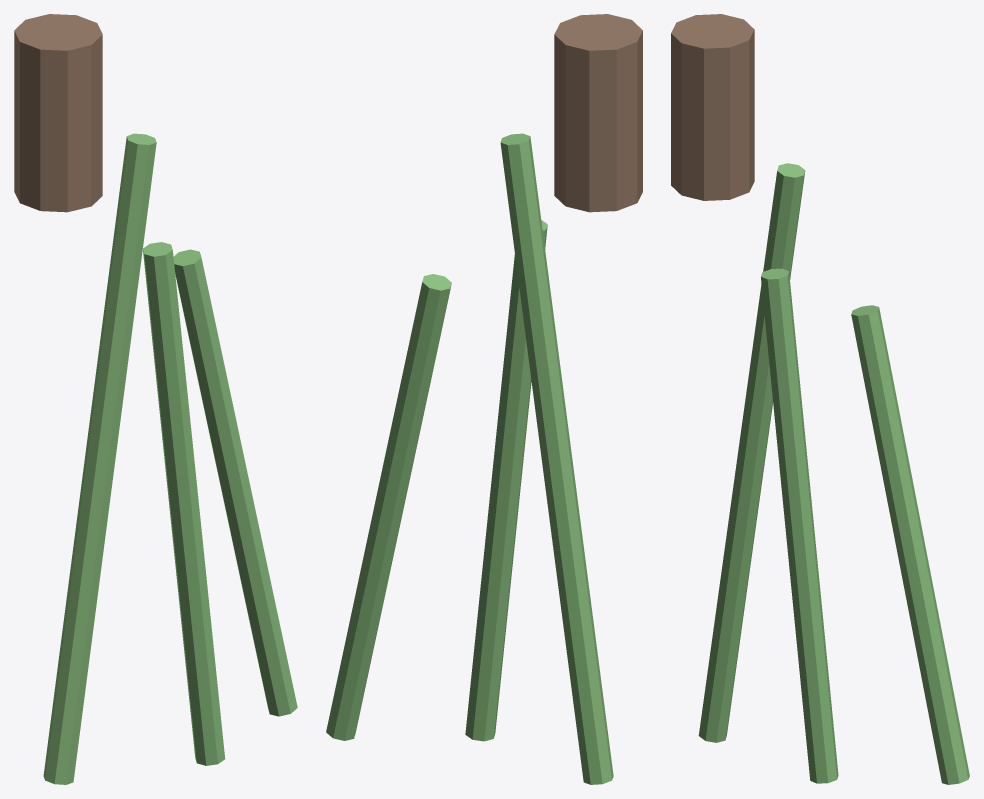
Rendered from shore_reeds_v1.glb.
3 renders of one model, left to right at view 1: azimuth 30°, elevation 25°; view 2: azimuth 150°, elevation 25°; view 3: azimuth 330°, elevation 25°, orthographic. The views are drawn at different scales.
Parts seen in each view (by area): view 1: reed_stem_0, cattail_head, reed_stem_1, reed_stem_2; view 2: reed_stem_0, cattail_head, reed_stem_2, reed_stem_1; view 3: reed_stem_1, cattail_head, reed_stem_0, reed_stem_2.
Part boxes in pixels (<box>): reed_stem_0: <box>43,133,156,784</box>; cattail_head: <box>14,14,102,212</box>; reed_stem_1: <box>143,242,225,765</box>; reed_stem_2: <box>173,249,297,716</box>; reed_stem_0: <box>500,133,613,784</box>; cattail_head: <box>554,14,642,212</box>; reed_stem_2: <box>326,274,451,740</box>; reed_stem_1: <box>465,220,547,741</box>; reed_stem_1: <box>761,268,838,783</box>; cattail_head: <box>671,14,754,200</box>; reed_stem_0: <box>698,163,805,742</box>; reed_stem_2: <box>851,305,969,784</box>.
Size of the model in its own units: 0.3037 by 0.7429 by 0.088.
